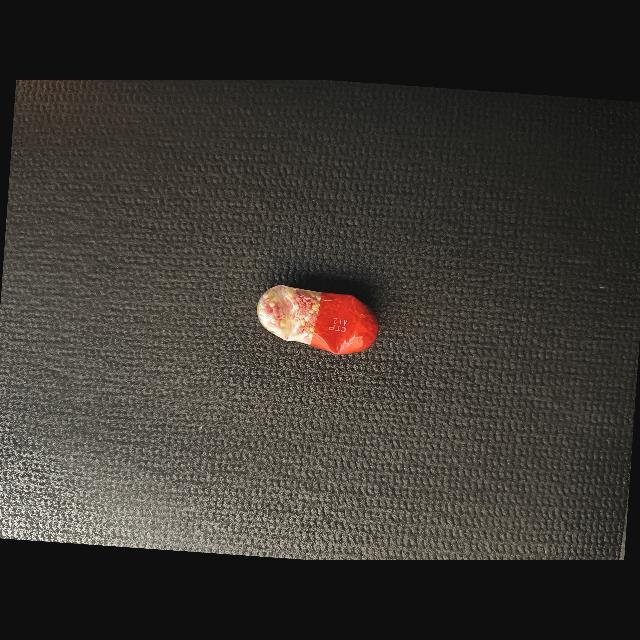Defective Capsule: (257, 285, 379, 355)
